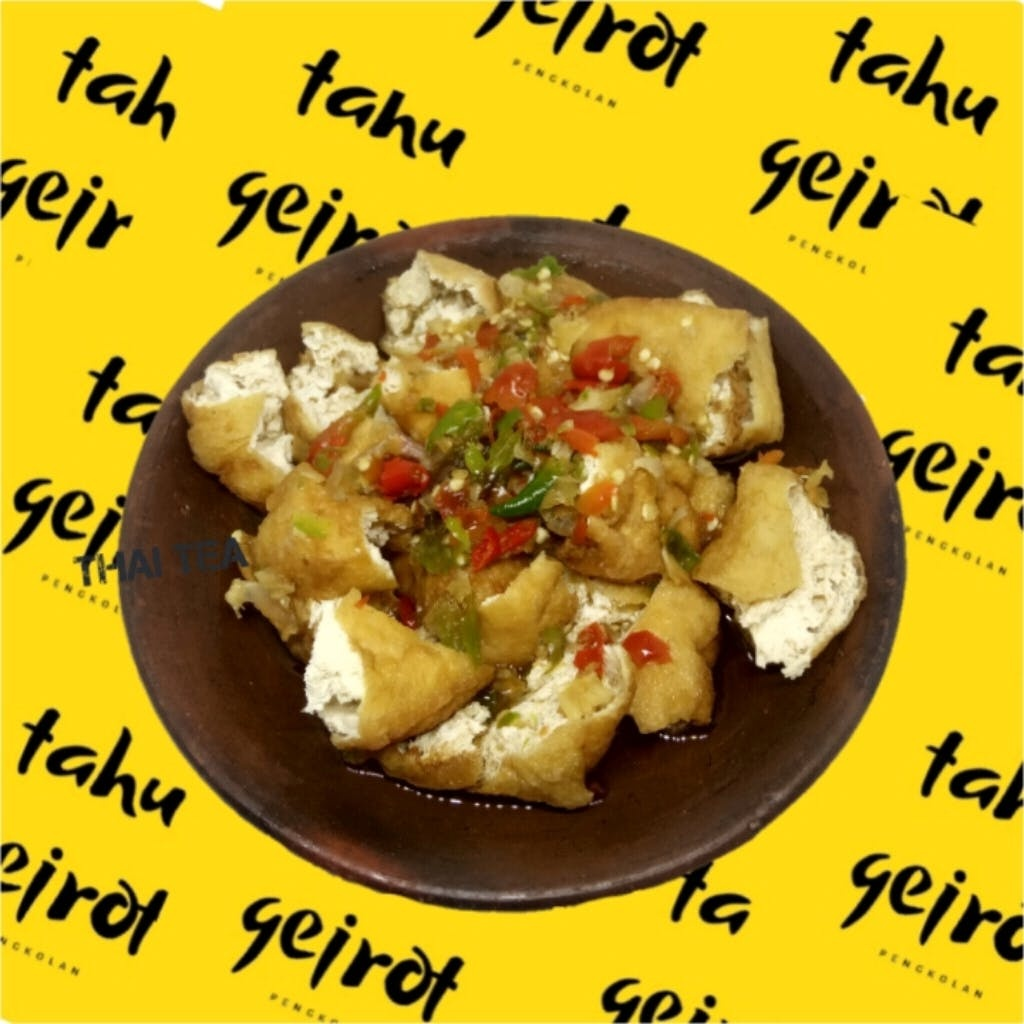tahu_gejrot: (180, 248, 868, 817)
